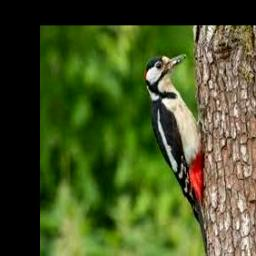Woodpecker: (144, 54, 208, 256)
